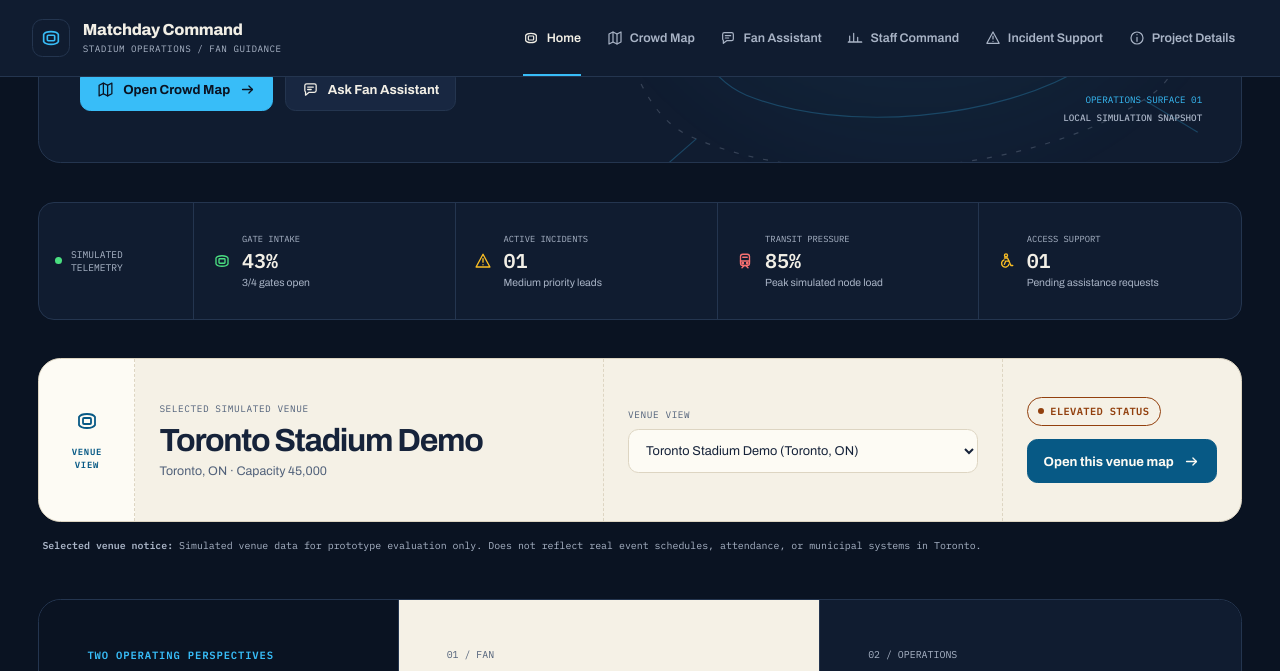
Matchday Command Base Application › hands the selected homepage venue to Crowd Map without synchronizing page state globally
(page scrolled)
Select "Mexico City Stadium Demo (Mexico City, MX)" in the dropdown labelled "Venue view" at (803, 451), box [628,429,978,473]
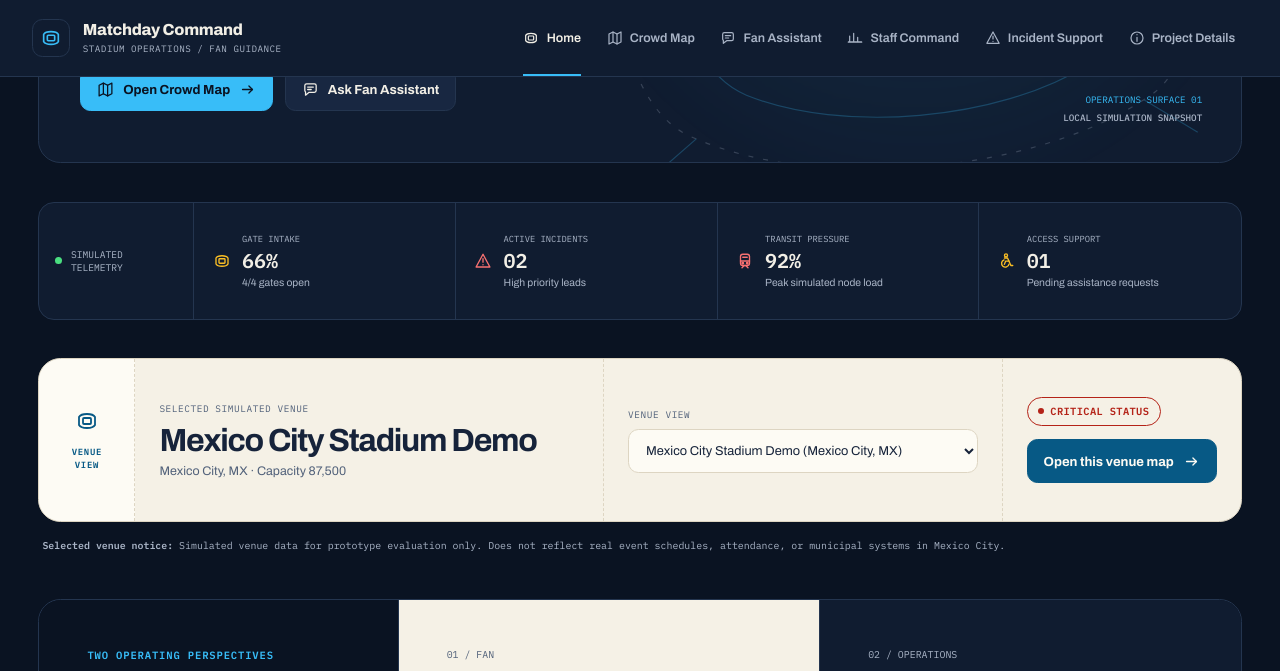
Click the button "Open this venue map" at (1122, 461), box [1026,439,1217,483]
(page scrolled)
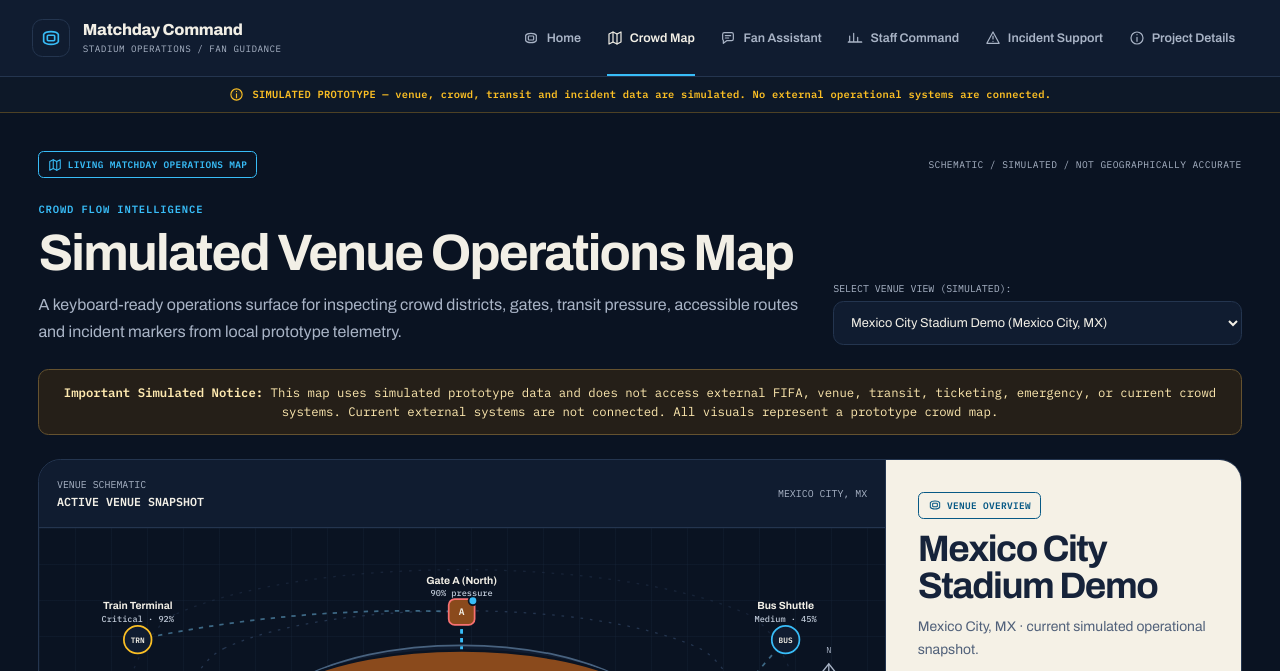
Result: the dropdown labelled "Select Venue View (Simulated):" shows "Mexico City Stadium Demo (Mexico City, MX)" at [833,301,1242,345]
